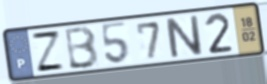2: (203, 11, 235, 55)
5: (98, 19, 132, 66)
7: (134, 19, 163, 61)
B: (64, 24, 101, 71)
N: (162, 13, 206, 60)
Z: (29, 29, 68, 73)
